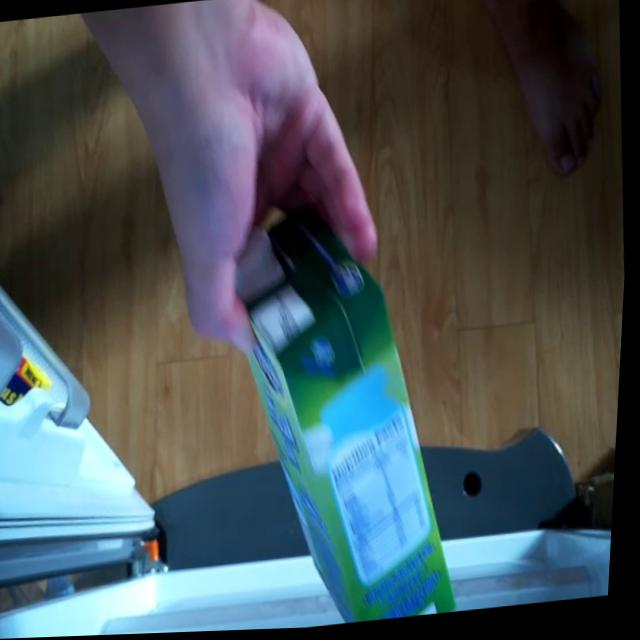milk: (227, 220, 487, 632)
